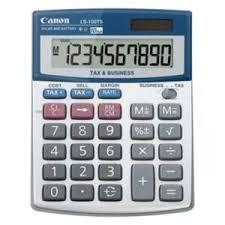Calculator: (24, 7, 196, 216)
